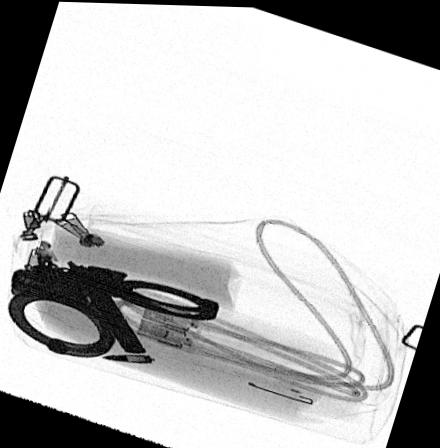Bullet: (100, 353, 151, 362)
Gun: (11, 256, 149, 354)
HandCuffs: (7, 258, 221, 360)
